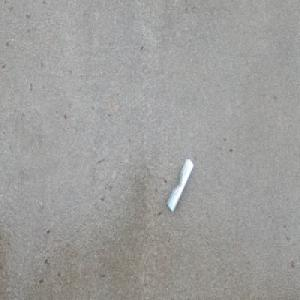ClampPart: (166, 157, 194, 213)
